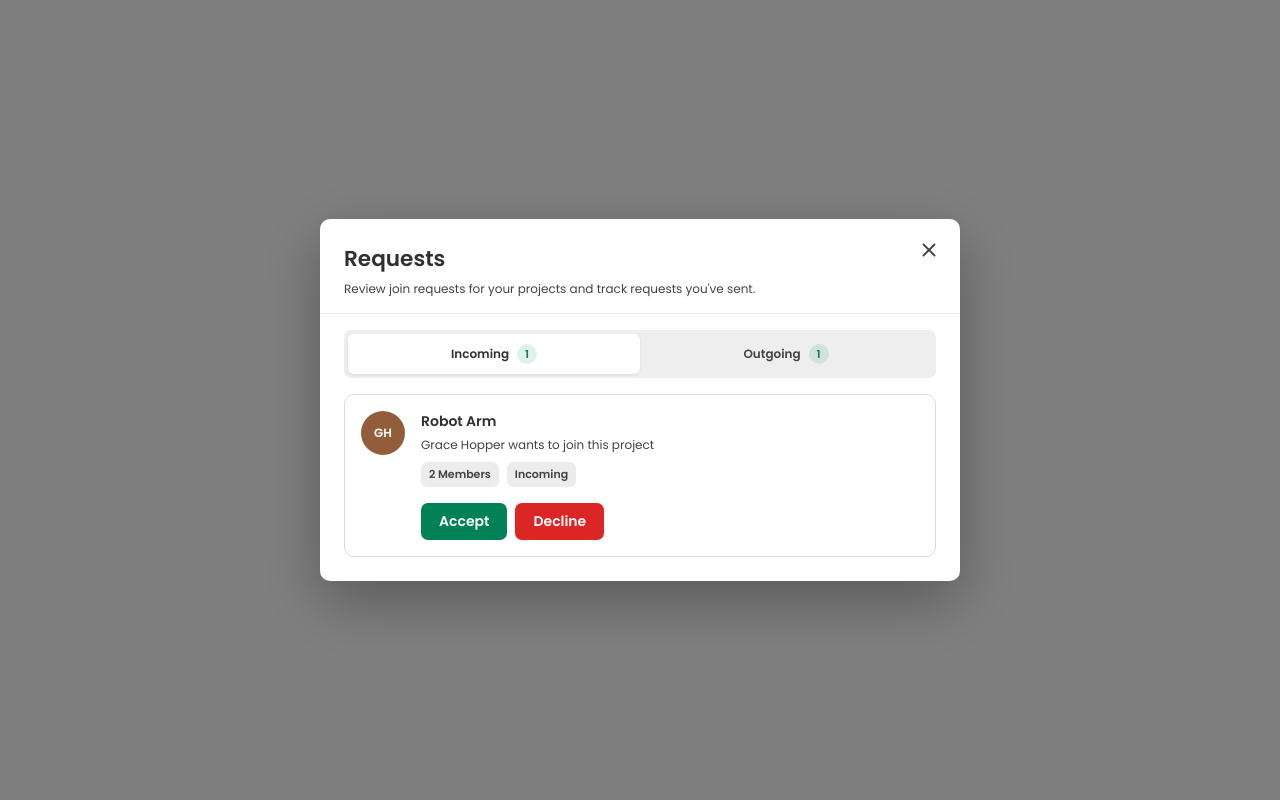
Test: RequestsModal › keeps the error from a failed Accept after the reload
Click the tab "Incoming 1" at (494, 354), box [348, 334, 640, 374]
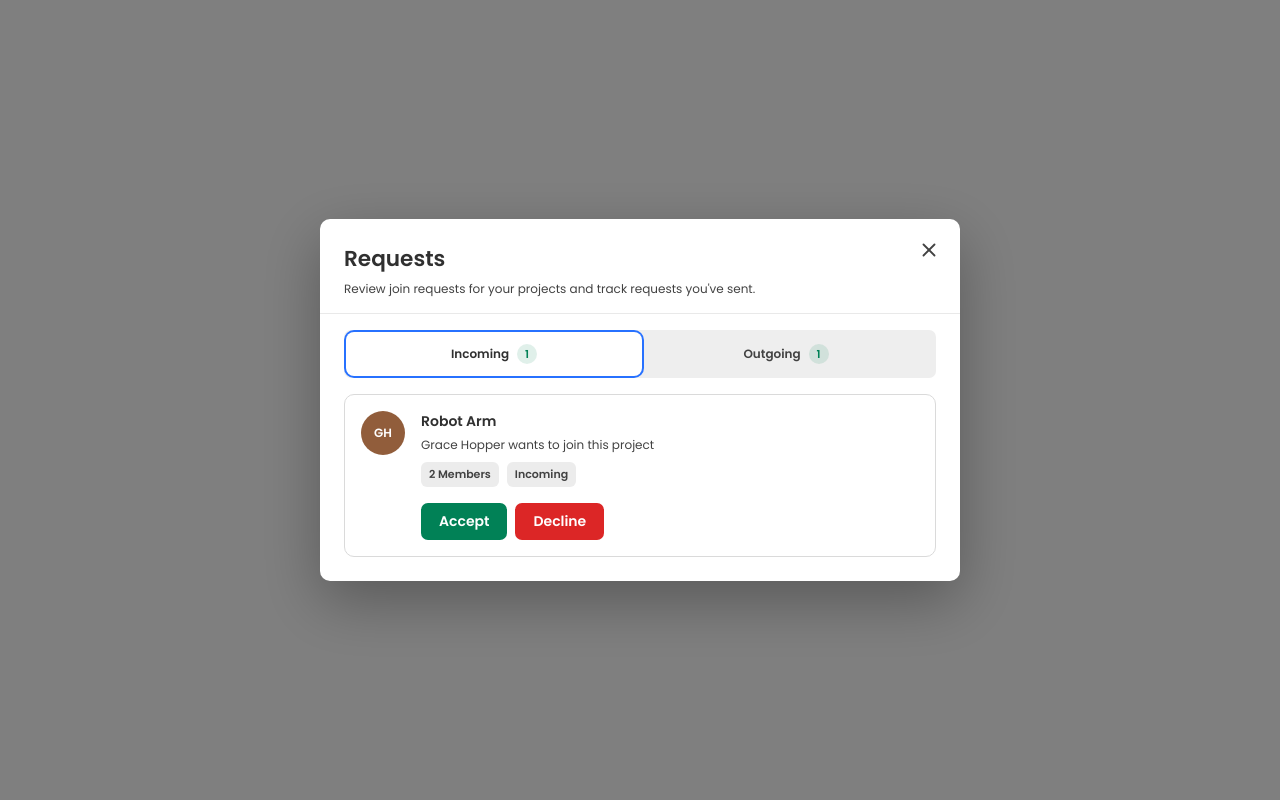
Click the button "Accept" at (464, 521), box [421, 503, 508, 540]
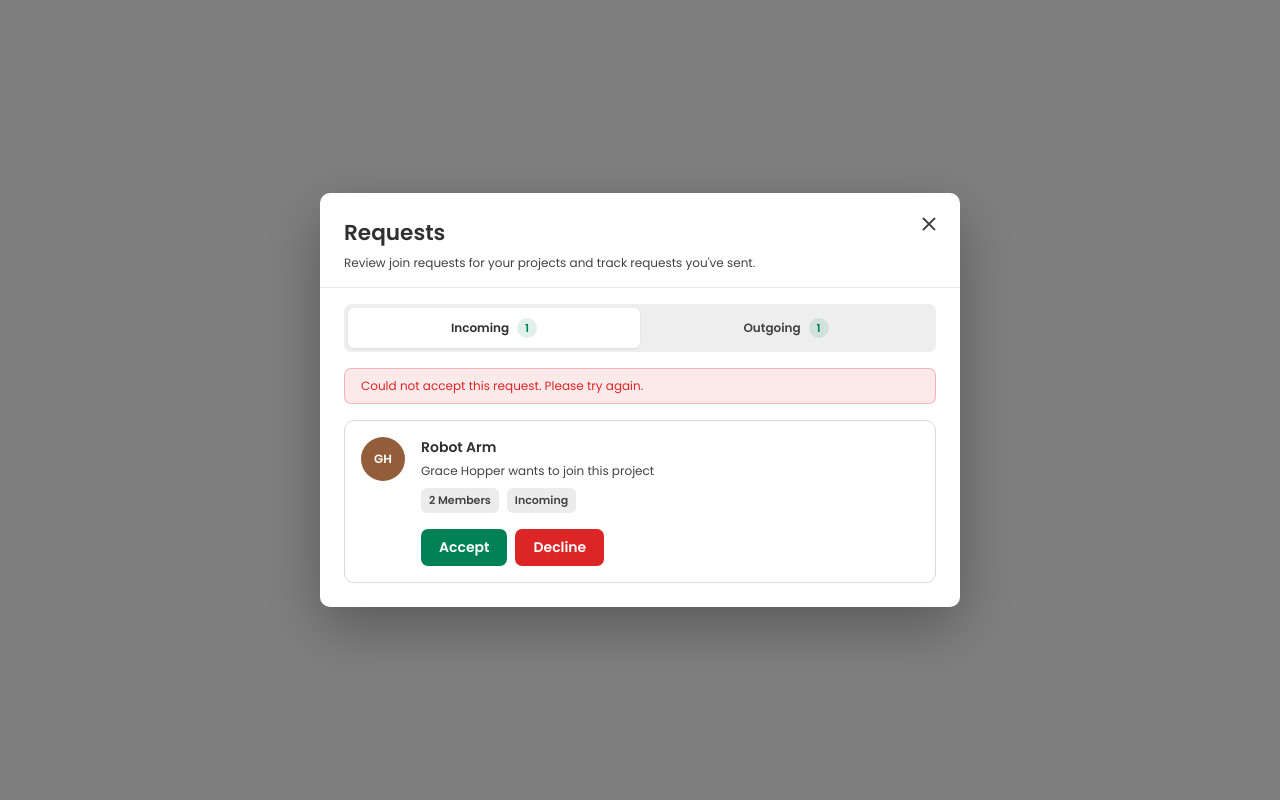
expect the button "Accept" is enabled: met, box [421, 529, 508, 566]
expect the text "Could not accept this request. Please try again." is shown: met, box [344, 368, 936, 404]
